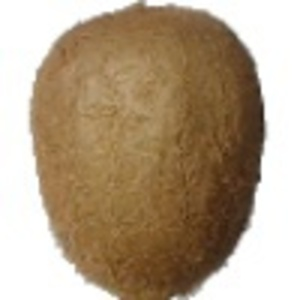kiwi: (27, 1, 267, 300)
